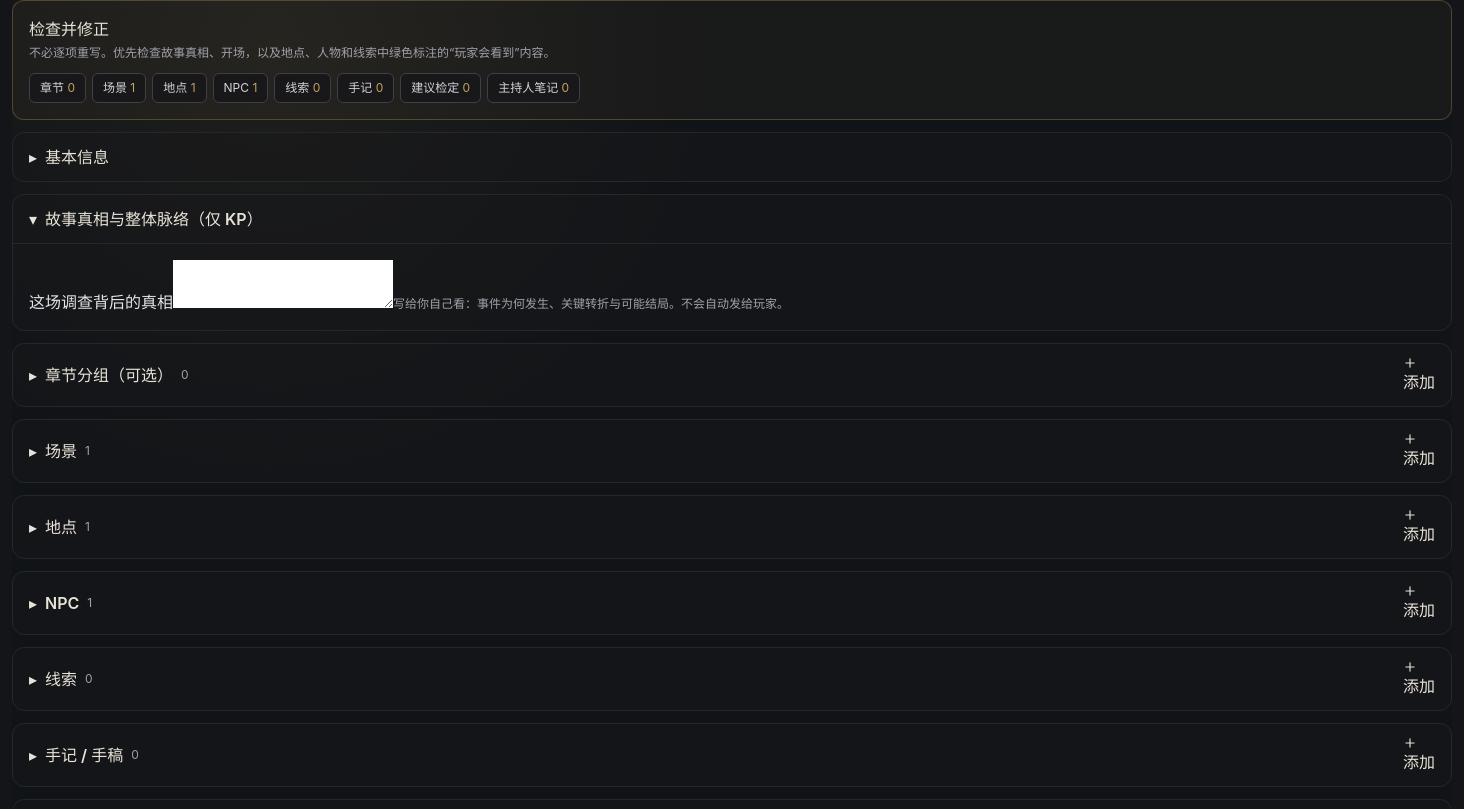
Test: StructuredModuleEditor › keeps transient language and chapter-order input schema-valid
The width and height of the screenshot is (1464, 809).
Later steps or results of the test are not shown.
Click the button "▸ 基本信息": (77, 157) [13, 133, 1451, 181]
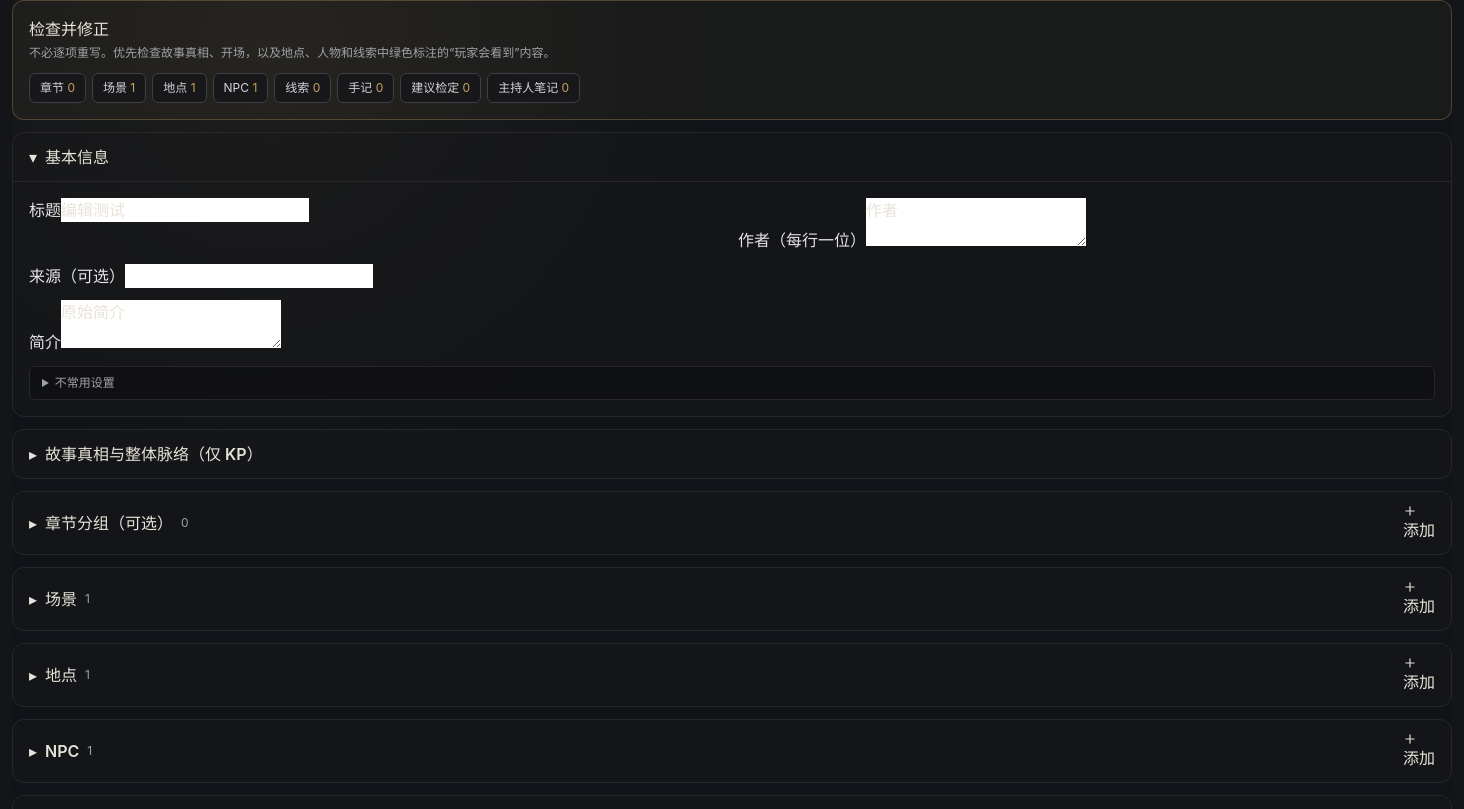
Click the heading "不常用设置": (85, 382) [55, 375, 115, 390]
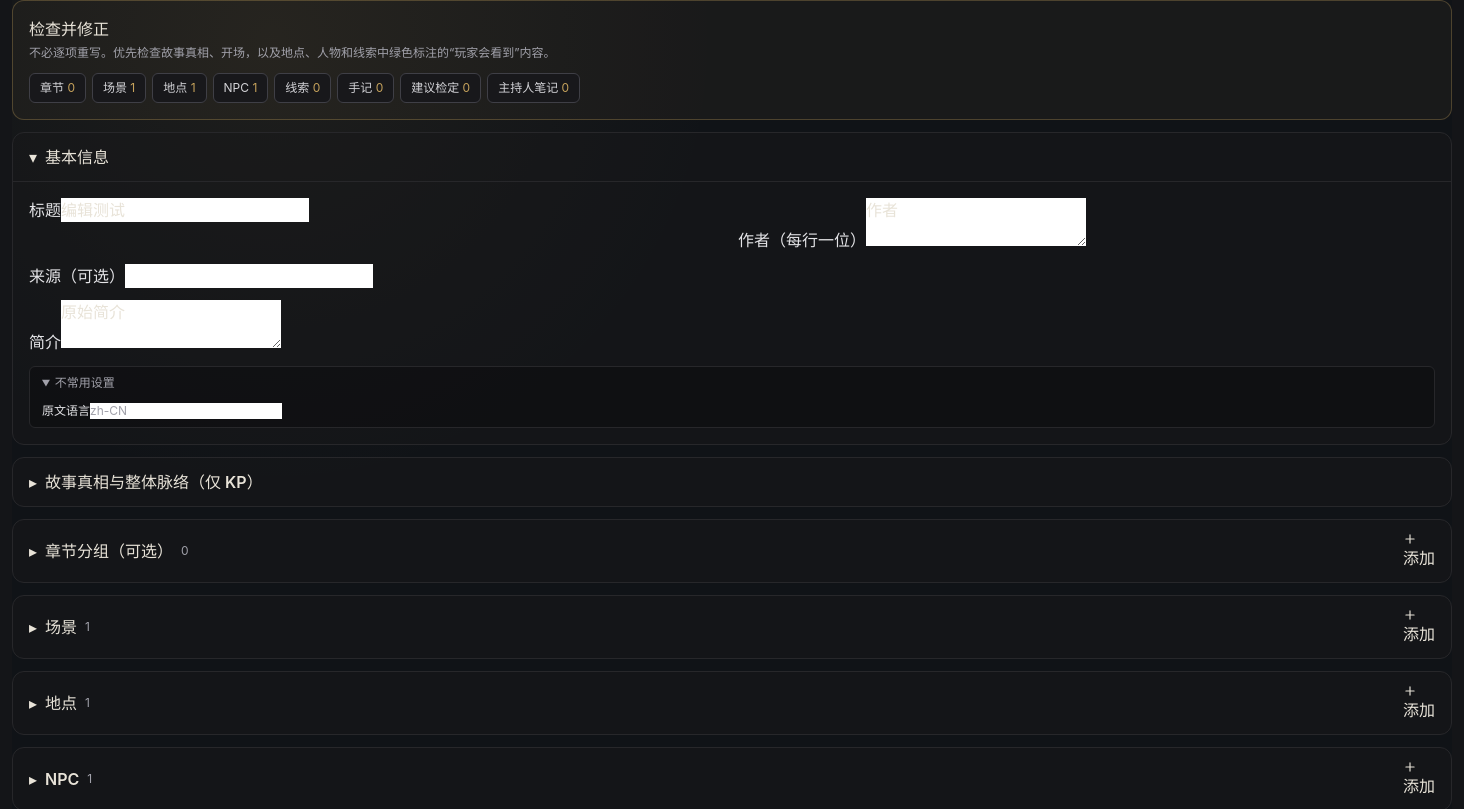
Replace the text in the field named "模组语言" with "z": (186, 411) [90, 403, 282, 419]
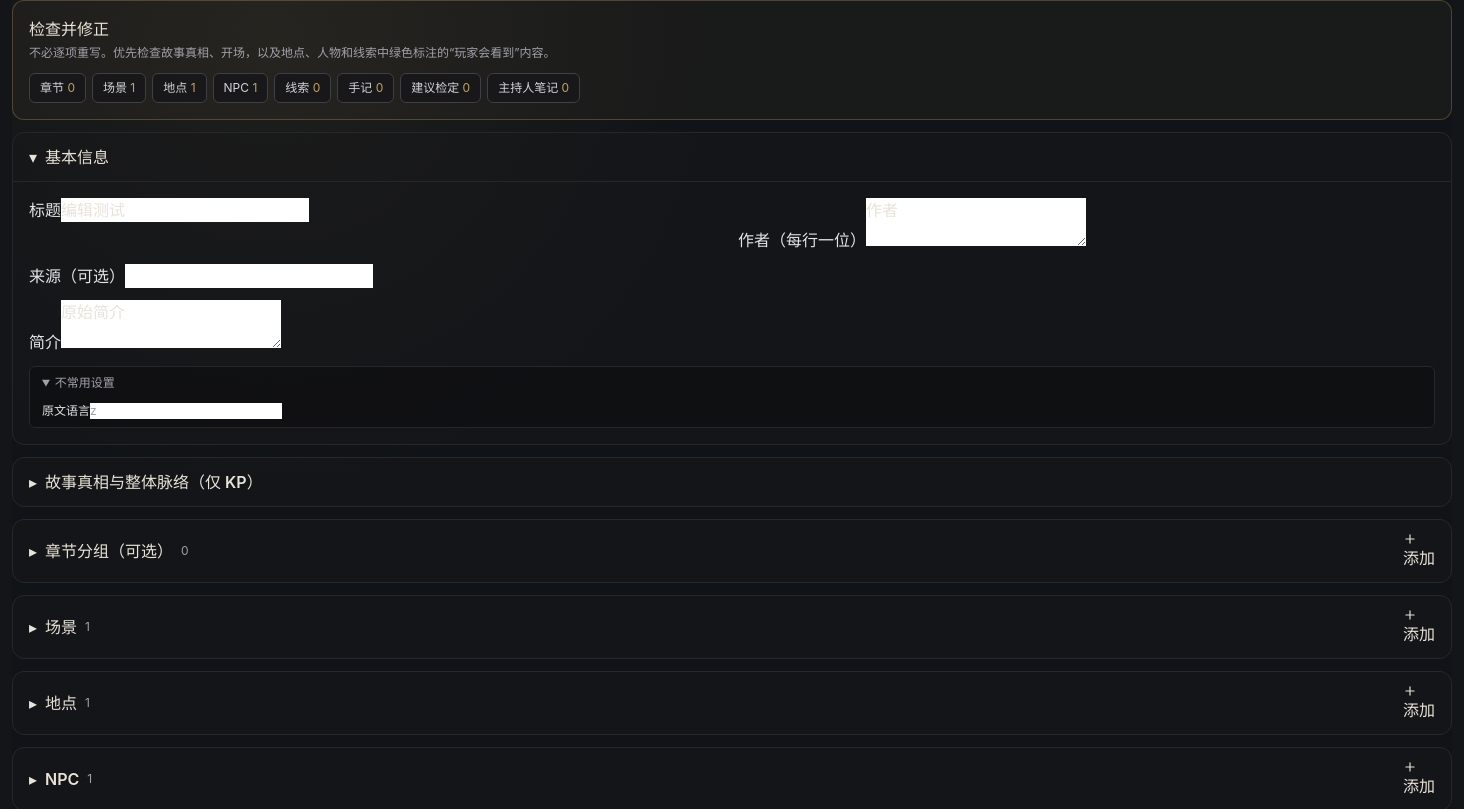
Result: the field named "模组语言" is marked as invalid
Leave the field named "模组语言", box [90, 403, 282, 419]
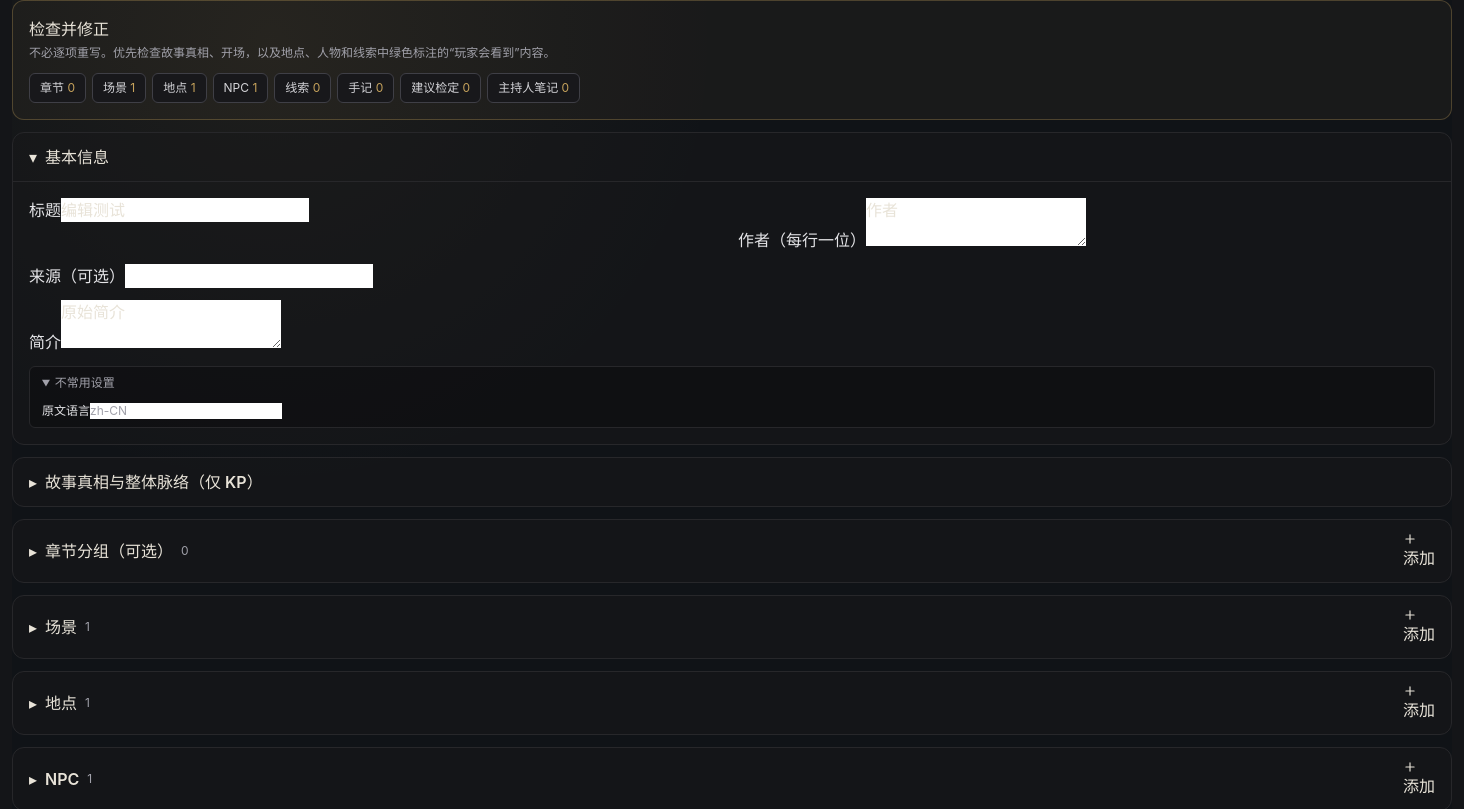
Result: the field named "模组语言" holds "zh-CN" at [90, 403, 282, 419]
